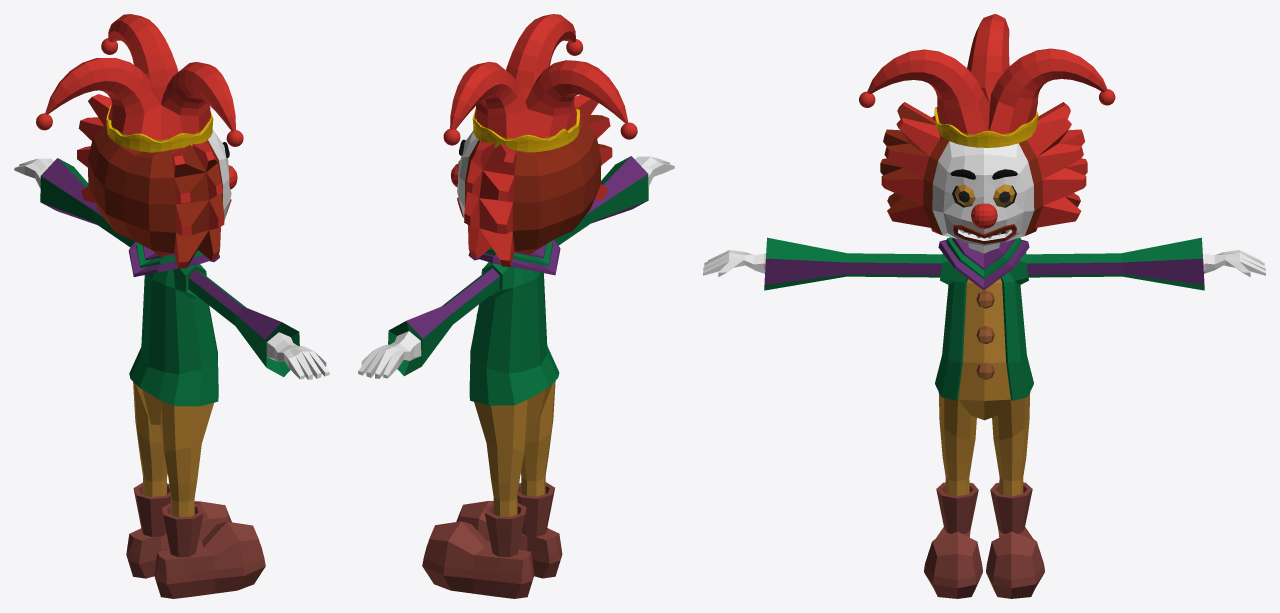
File: clown3blend.fbx
3 renders of one model, left to right at view 1: azimuth 30°, elevation 25°; view 2: azimuth 150°, elevation 25°; view 3: azimuth 270°, elevation 25°, orthographic. The views are drawn at different scales.
Visible parts, largest first — view 1: Cube.002; view 2: Cube.002; view 3: Cube.002.
Part boxes in pixels (x1,y1,x2,y2): Cube.002: (14,14,329,598); Cube.002: (358,14,674,598); Cube.002: (703,14,1265,598).
Size of the model in its own units: 476 by 1200 by 1175.
